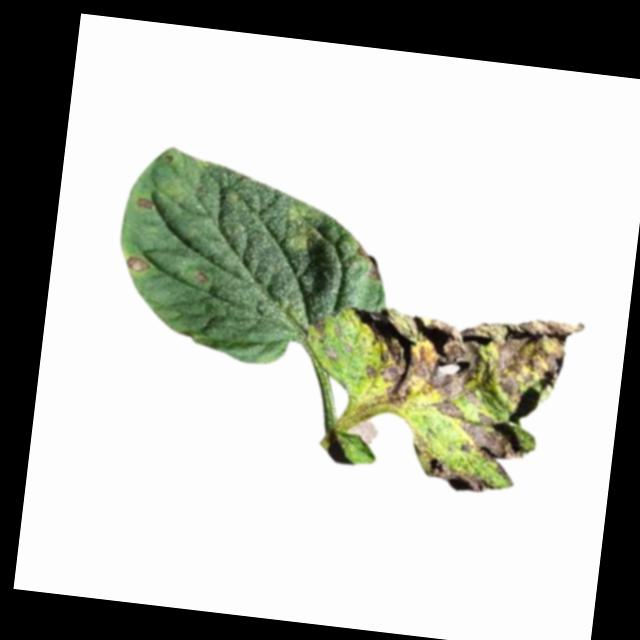Early_blight: (337, 294, 585, 481), (407, 434, 502, 500), (351, 239, 385, 280), (121, 251, 150, 274), (310, 315, 328, 341), (134, 195, 153, 209)
